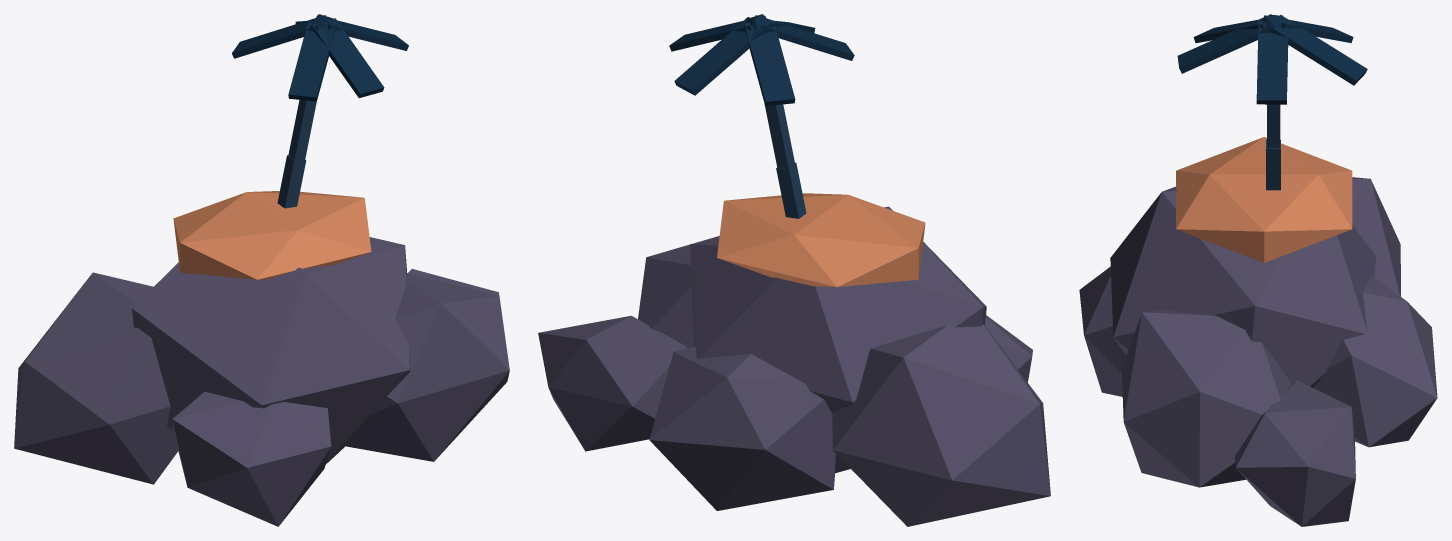
Rendered from headland.glb.
3 renders of one model, left to right at view 1: azimuth 30°, elevation 25°; view 2: azimuth 150°, elevation 25°; view 3: azimuth 270°, elevation 25°, orthographic. The views are drawn at different scales.
Parts seen in each view (by area): view 1: Headland; view 2: Headland; view 3: Headland.
Part boxes in pixels (box(x1,y1,x2,y2)): Headland: box(14, 14, 509, 526); Headland: box(538, 14, 1050, 526); Headland: box(1079, 14, 1437, 526).
Bounding box in the file's own units: 6.26 × 5.17 × 3.8.
